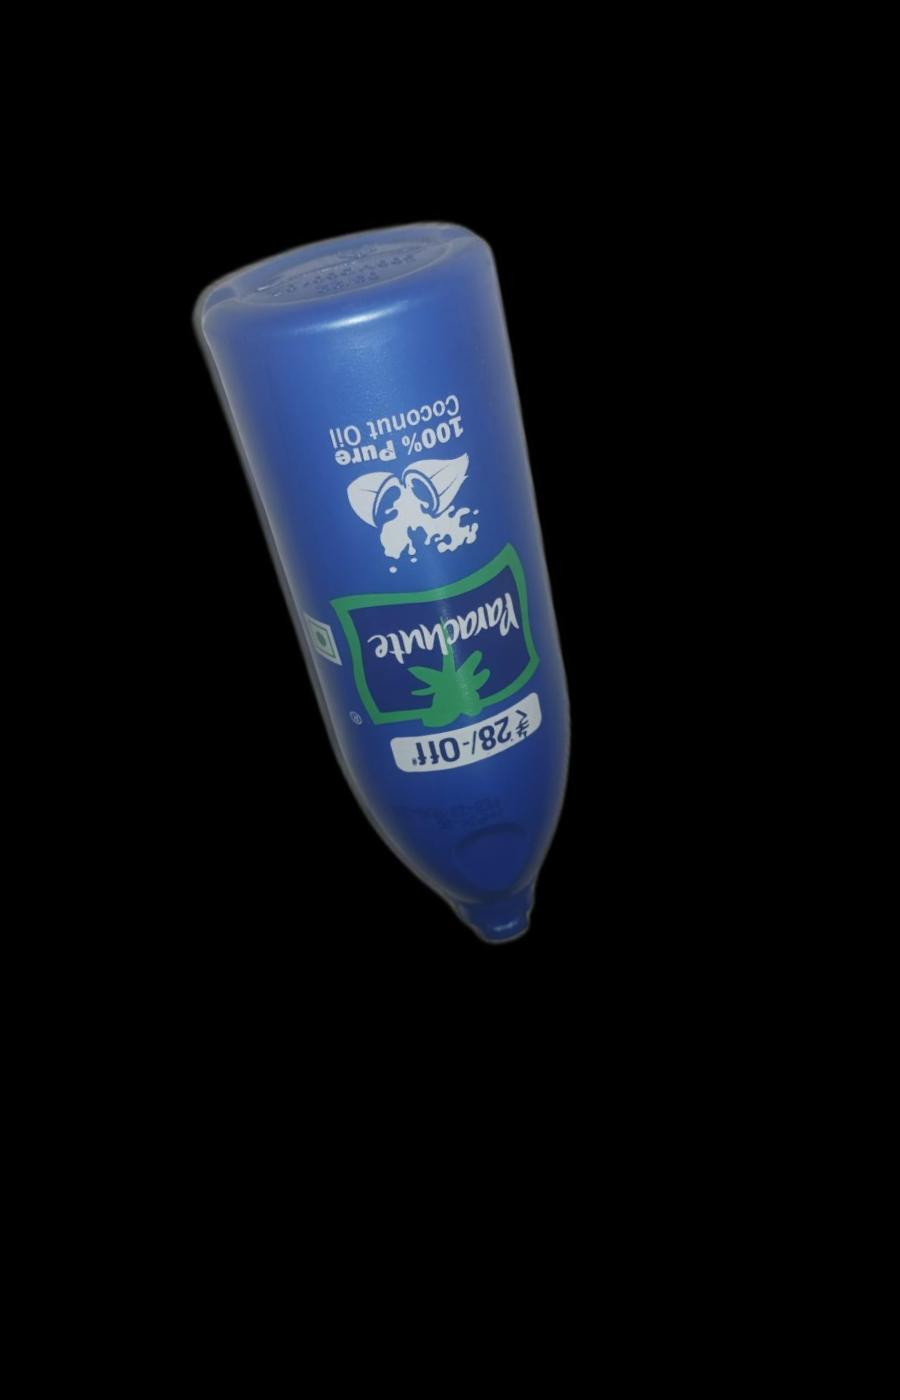Parachute Coconut Oil 600 ml - Bottle: (188, 216, 646, 992)
